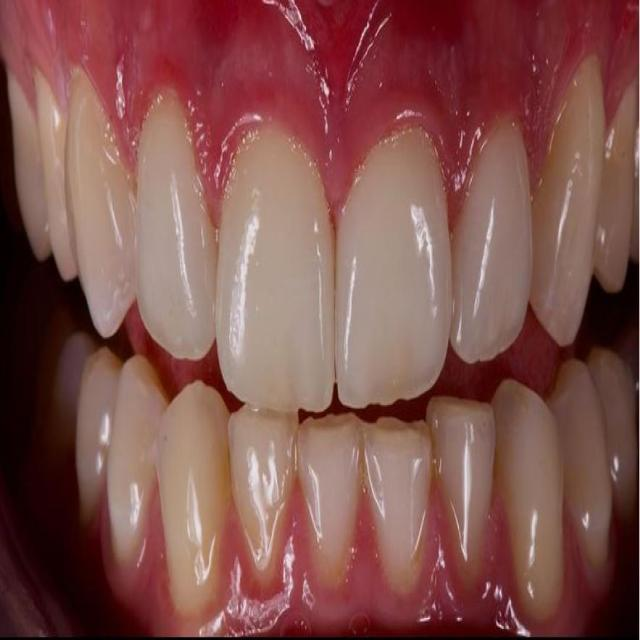1st Molar: (41, 319, 96, 444)
1st Premolar: (549, 362, 612, 579), (105, 359, 167, 570), (597, 79, 638, 292), (37, 75, 77, 281)
2nd Premolar: (585, 344, 638, 513), (5, 75, 49, 260), (76, 344, 119, 522)
Canine: (529, 57, 603, 348), (66, 65, 135, 341), (155, 378, 230, 616), (493, 381, 565, 621)
Central Incisor: (215, 126, 336, 413), (336, 127, 451, 411), (363, 416, 433, 597), (299, 416, 363, 593)
Lateral Incisor: (134, 94, 218, 362), (452, 117, 531, 365), (428, 399, 495, 586), (228, 411, 297, 588)
